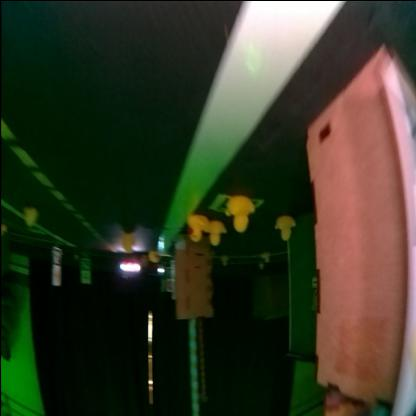Duckie: (227, 197, 253, 230), (186, 217, 208, 241), (274, 218, 296, 240), (208, 221, 225, 245), (23, 208, 36, 226), (122, 234, 134, 253), (148, 250, 160, 262), (262, 255, 270, 261), (222, 258, 228, 266)
Duckiebot: (118, 256, 140, 276)
QR code: (209, 195, 262, 215), (54, 249, 61, 265), (82, 262, 90, 268)
